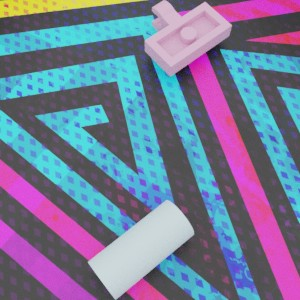lego: (87, 200, 194, 300), (144, 0, 232, 76)
